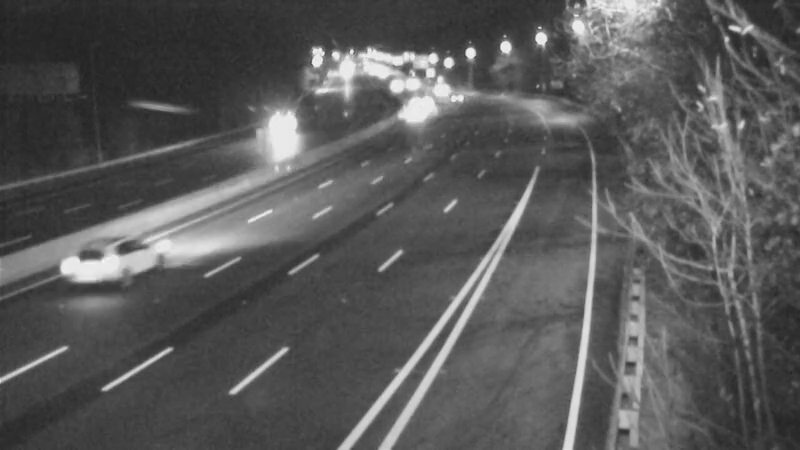vehicle: (67, 222, 147, 302), (417, 63, 467, 113), (430, 69, 480, 119), (391, 89, 441, 139), (257, 99, 307, 149)
